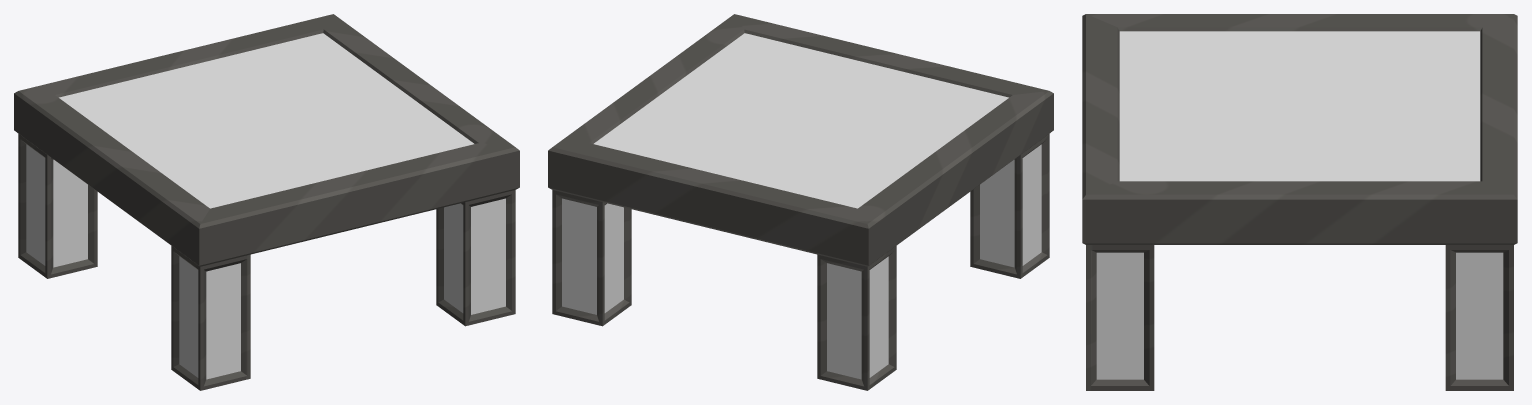
File: Ratona.fbx
3 renders of one model, left to right at view 1: azimuth 30°, elevation 25°; view 2: azimuth 150°, elevation 25°; view 3: azimuth 270°, elevation 25°, orthographic. The views are drawn at different scales.
Parts seen in each view (by area): view 1: Mesa ratona glass, Cube.003; view 2: Mesa ratona glass, Cube.003; view 3: Mesa ratona glass, Cube.003.
Part boxes in pixels (x1,y1,x2,y2): Mesa ratona glass: [26, 33, 505, 379]; Cube.003: [14, 14, 519, 390]; Mesa ratona glass: [562, 33, 1041, 379]; Cube.003: [548, 14, 1053, 390]; Mesa ratona glass: [1096, 31, 1503, 379]; Cube.003: [1082, 14, 1517, 390].
Bounding box in the file's own units: 352 × 175 × 352.
